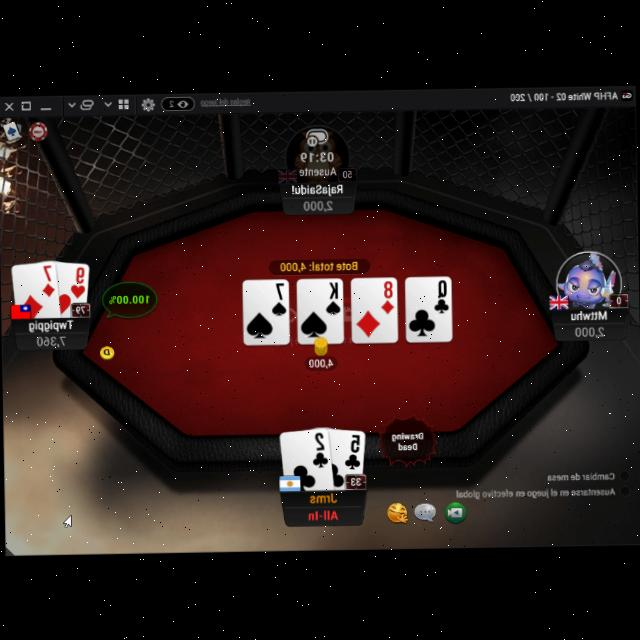2c: (310, 428, 330, 468)
5c: (341, 430, 362, 470)
7d: (38, 261, 56, 297)
7s: (270, 280, 288, 316)
8d: (378, 277, 395, 313)
9h: (68, 262, 88, 298)
Ks: (323, 278, 342, 314)
Qc: (432, 276, 449, 314)
all_in_symbol: (306, 504, 339, 522)
bet_text: (306, 355, 332, 367)
dealer: (98, 341, 116, 358)
pot_text: (278, 258, 358, 270)
stack_text: (572, 322, 606, 338), (35, 332, 66, 347), (302, 197, 334, 211)
